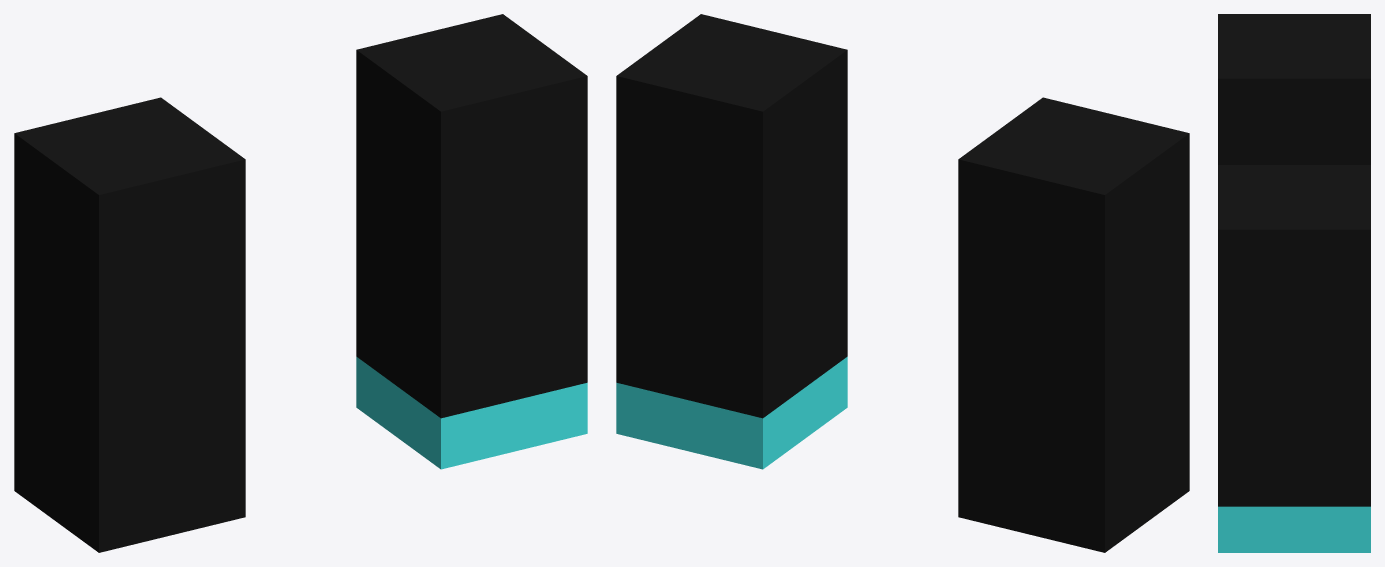
File: character thighs modeling.obj
3 views of the same model, side by side, from view 1: azimuth 30°, elevation 25°; view 2: azimuth 150°, elevation 25°; view 3: azimuth 270°, elevation 25° (orthographic). The views are drawn at different scales.
Bounding box in the file's own units: 1 × 0.7 × 0.3.
1 material, 1 textured.
